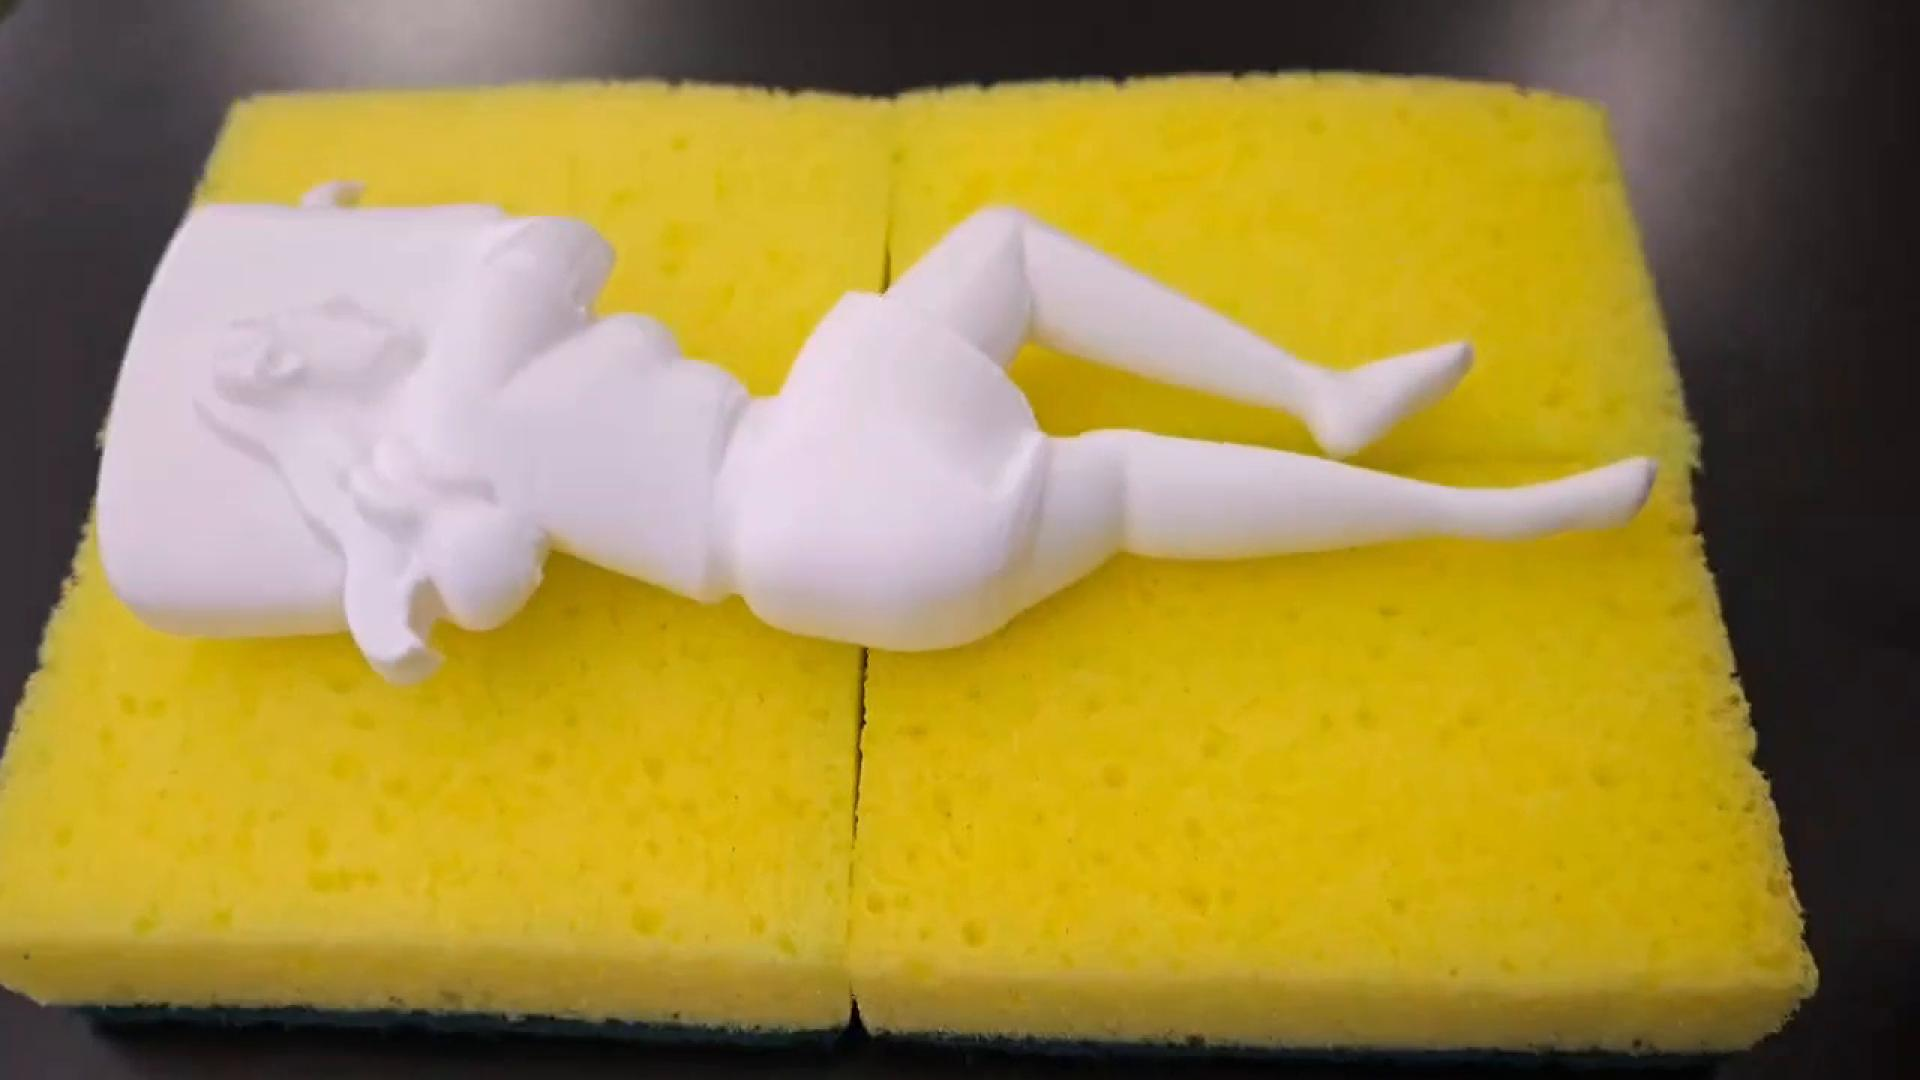Good-style: (96, 171, 1650, 645)
